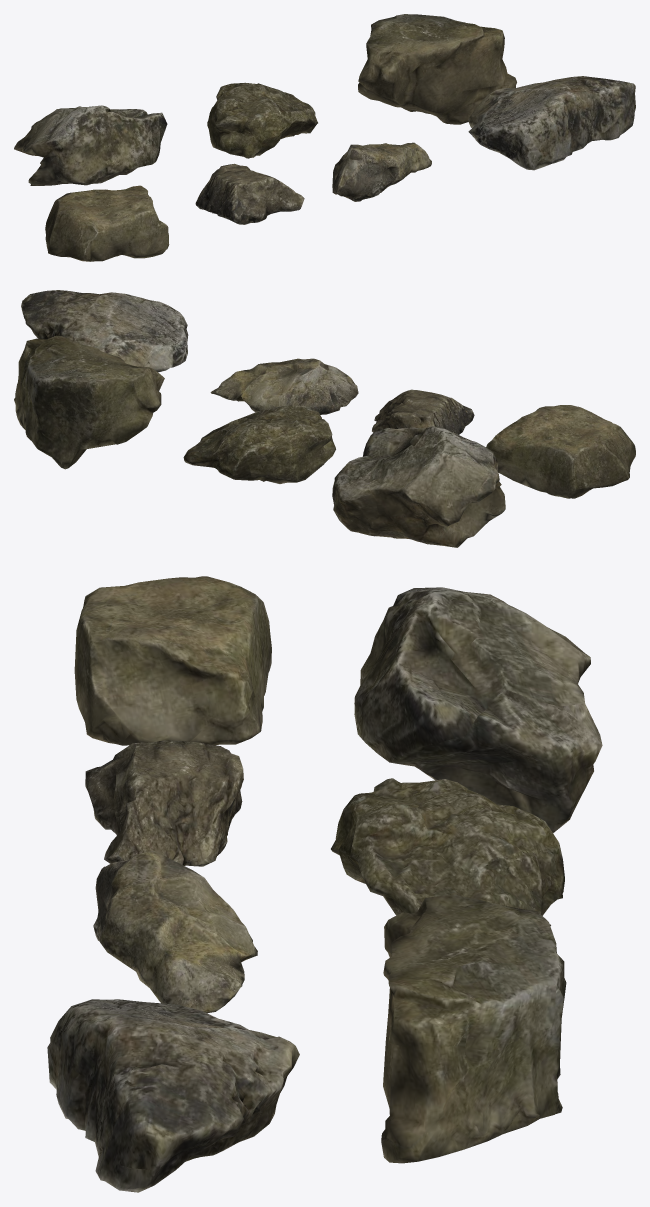
The model's file is rock_moss_set_02.glb.
3 views of the same model, one above another, from view 1: azimuth 30°, elevation 25°; view 2: azimuth 150°, elevation 25°; view 3: azimuth 270°, elevation 25° (orthographic). The views are drawn at different scales.
Parts seen in each view (by area): view 1: rock_moss_set_02_rock13, rock_moss_set_02_rock10, rock_moss_set_02_rock11, rock_moss_set_02_rock07, rock_moss_set_02_rock12, rock_moss_set_02_rock08, rock_moss_set_02_rock09; view 2: rock_moss_set_02_rock11, rock_moss_set_02_rock13, rock_moss_set_02_rock07, rock_moss_set_02_rock10, rock_moss_set_02_rock12, rock_moss_set_02_rock09, rock_moss_set_02_rock08; view 3: rock_moss_set_02_rock13, rock_moss_set_02_rock11, rock_moss_set_02_rock10, rock_moss_set_02_rock07, rock_moss_set_02_rock12, rock_moss_set_02_rock09, rock_moss_set_02_rock08.
Boxes of the visible parts, x1=… form: rock_moss_set_02_rock13: x1=358, y1=14, x2=516, y2=124; rock_moss_set_02_rock10: x1=468, y1=76, x2=635, y2=170; rock_moss_set_02_rock11: x1=14, y1=105, x2=167, y2=185; rock_moss_set_02_rock07: x1=45, y1=185, x2=169, y2=261; rock_moss_set_02_rock12: x1=207, y1=82, x2=317, y2=158; rock_moss_set_02_rock08: x1=195, y1=163, x2=304, y2=224; rock_moss_set_02_rock09: x1=332, y1=142, x2=431, y2=201; rock_moss_set_02_rock11: x1=332, y1=426, x2=505, y2=547; rock_moss_set_02_rock13: x1=14, y1=336, x2=164, y2=469; rock_moss_set_02_rock07: x1=486, y1=405, x2=635, y2=498; rock_moss_set_02_rock10: x1=21, y1=290, x2=188, y2=372; rock_moss_set_02_rock12: x1=183, y1=405, x2=335, y2=483; rock_moss_set_02_rock09: x1=210, y1=358, x2=358, y2=414; rock_moss_set_02_rock08: x1=372, y1=389, x2=474, y2=434; rock_moss_set_02_rock13: x1=381, y1=894, x2=566, y2=1163; rock_moss_set_02_rock11: x1=354, y1=587, x2=602, y2=832; rock_moss_set_02_rock10: x1=47, y1=999, x2=299, y2=1192; rock_moss_set_02_rock07: x1=74, y1=576, x2=271, y2=745; rock_moss_set_02_rock12: x1=331, y1=778, x2=564, y2=925; rock_moss_set_02_rock09: x1=93, y1=851, x2=257, y2=1013; rock_moss_set_02_rock08: x1=85, y1=740, x2=243, y2=866.
Size of the model in its own units: 8.28 by 1.37 by 3.41.
1 material, 1 textured.
